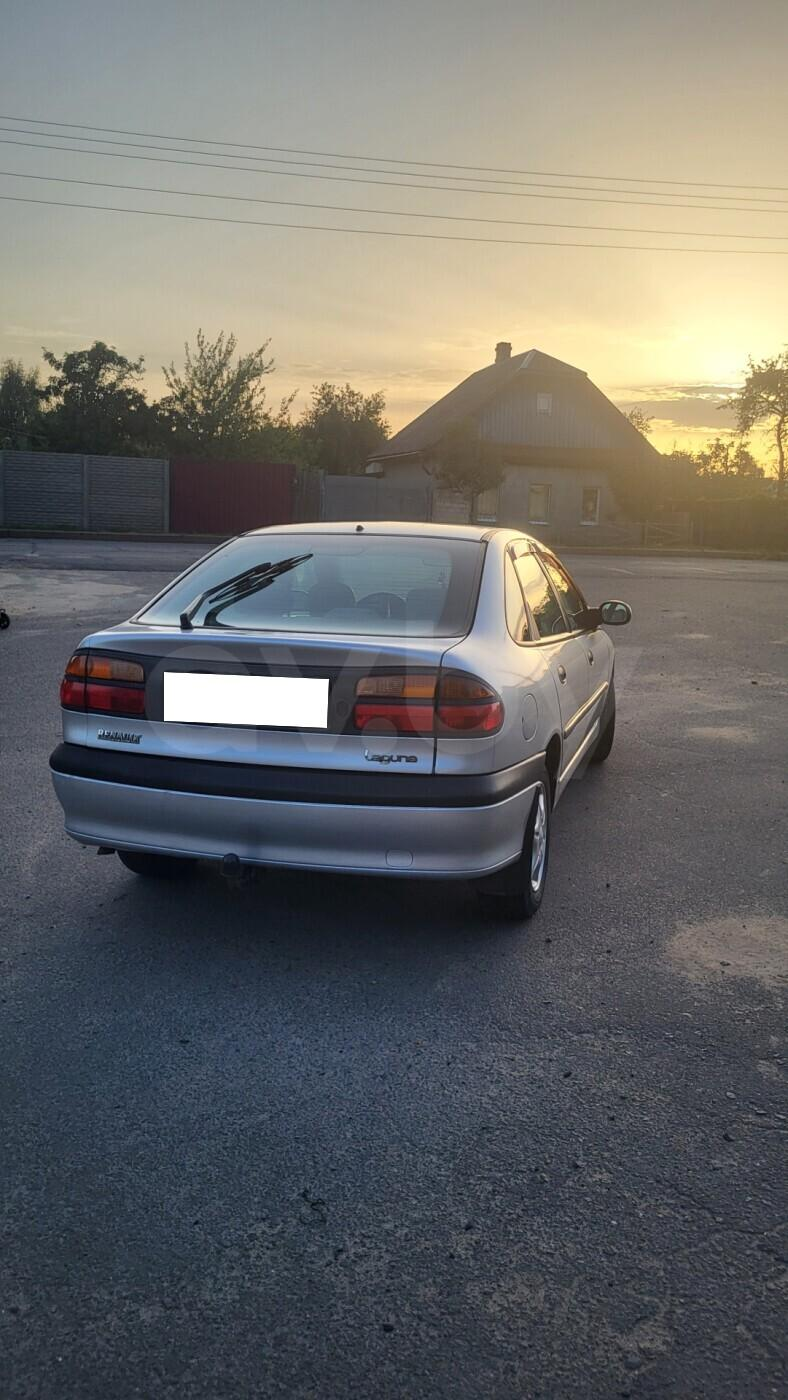Laguna_1998-2001: (48, 522, 636, 920)
